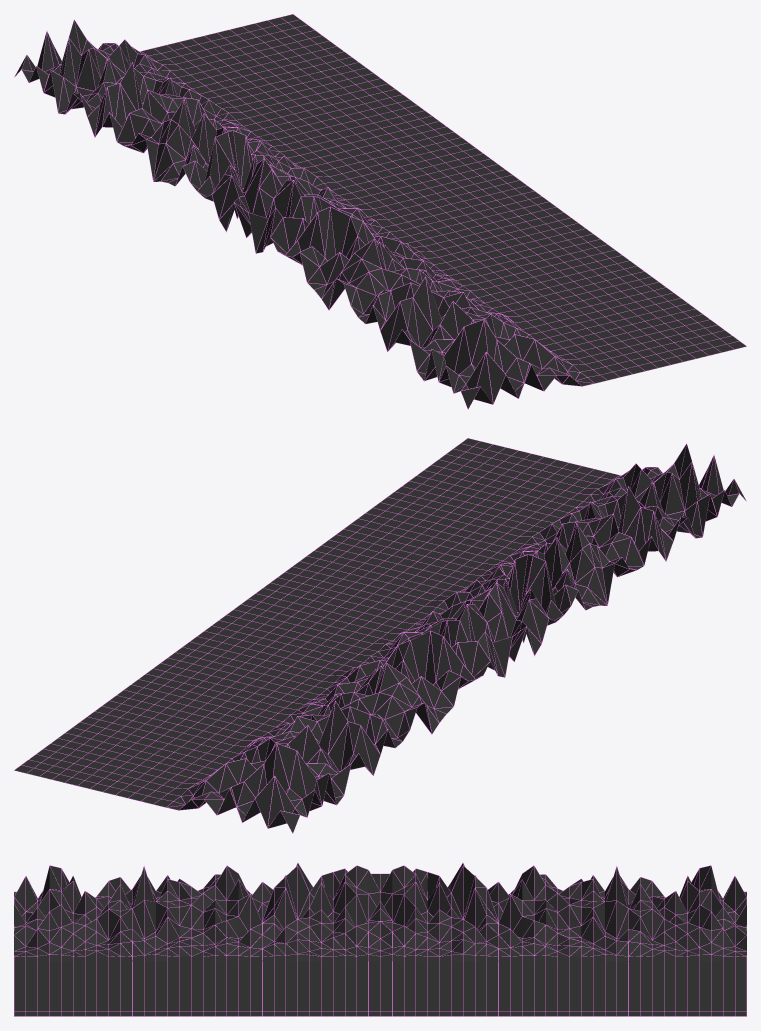
The model's file is Ground.fbx.
3 views of the same model, one above another, from view 1: azimuth 30°, elevation 25°; view 2: azimuth 150°, elevation 25°; view 3: azimuth 270°, elevation 25° (orthographic). The views are drawn at different scales.
Visible parts, largest first — view 1: ground; view 2: ground; view 3: ground.
Part boxes in pixels (x1,y1,x2,y2): ground: (14, 14, 746, 409); ground: (14, 438, 746, 833); ground: (14, 862, 746, 1016).
Size of the model in its own units: 1136 by 273 by 3201.
